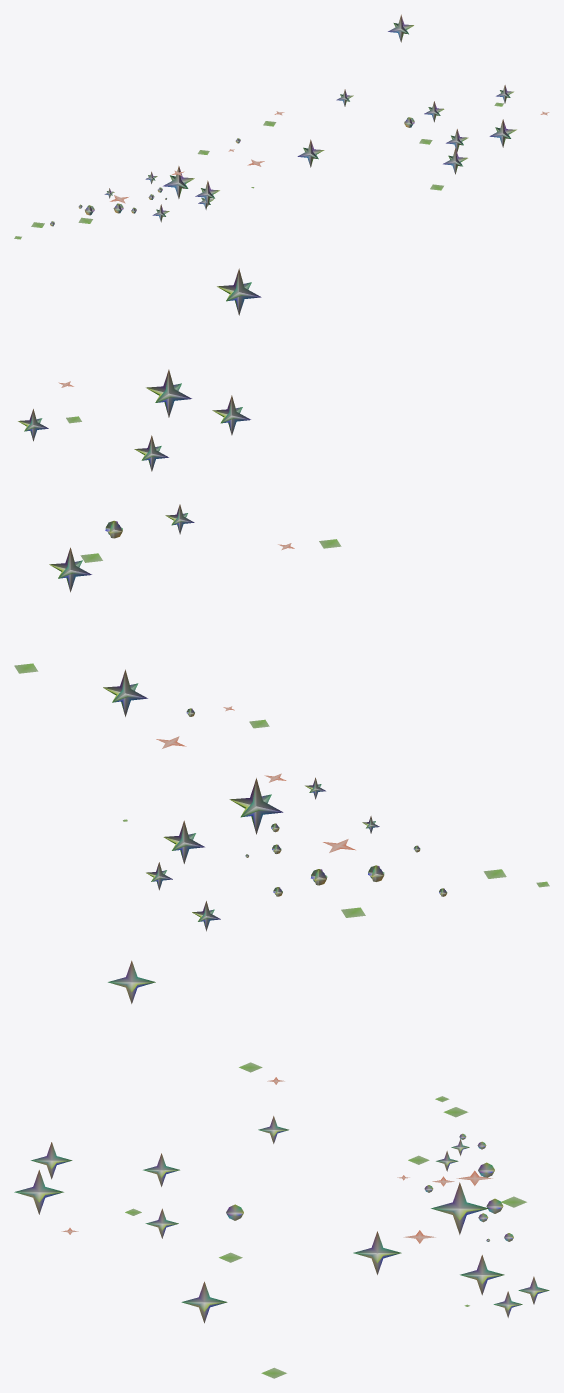
The model's file is space-stars-star-cluster_v3.fbx.
3 views of the same model, one above another, from view 1: azimuth 30°, elevation 25°; view 2: azimuth 150°, elevation 25°; view 3: azimuth 270°, elevation 25° (orthographic). The views are drawn at different scales.
Parts seen in each view (by area): view 1: Star Cluster_v3; view 2: Star Cluster_v3; view 3: Star Cluster_v3.
Part boxes in pixels (<box>): Star Cluster_v3: <box>14,14,549,239</box>; Star Cluster_v3: <box>14,268,549,931</box>; Star Cluster_v3: <box>14,960,549,1378</box>.
Bounding box in the file's own units: 0.5 × 0.3177 × 0.3604.
